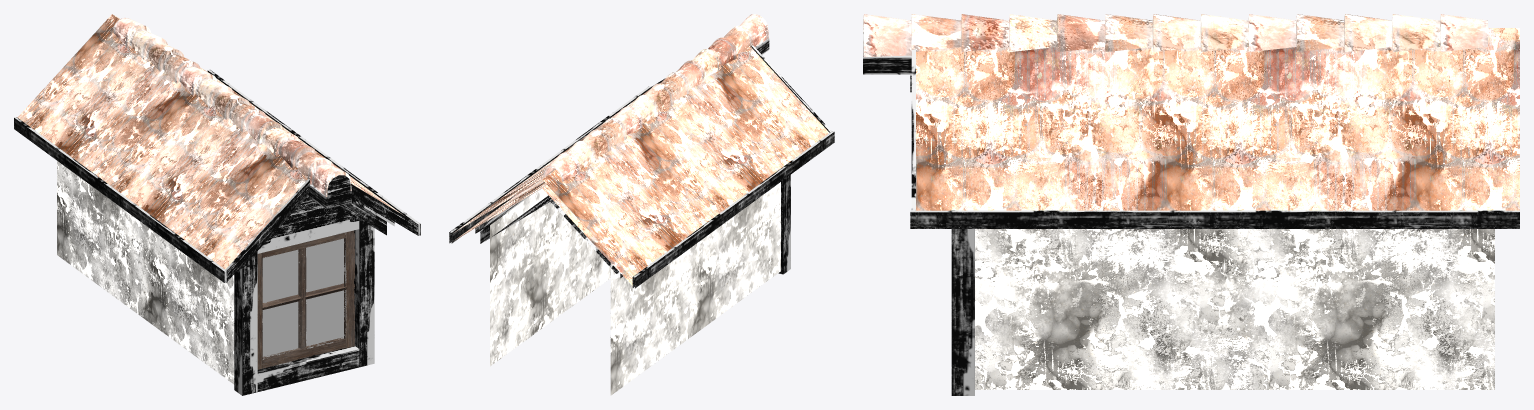
Rendered from SM_roof_attic_01.fbx.
The picture shows the model from 3 angles, left to right: view 1: azimuth 30°, elevation 25°; view 2: azimuth 150°, elevation 25°; view 3: azimuth 270°, elevation 25°; orthographic projection. The views are drawn at different scales.
Parts seen in each view (by area): view 1: SM_roof_attic_01_LOD0; view 2: SM_roof_attic_01_LOD0; view 3: SM_roof_attic_01_LOD0.
Part boxes in pixels (left/top/right/bottom): SM_roof_attic_01_LOD0: left=14, top=14, right=420, bottom=395; SM_roof_attic_01_LOD0: left=449, top=14, right=834, bottom=395; SM_roof_attic_01_LOD0: left=863, top=14, right=1519, bottom=395.
Size of the model in its own units: 231 by 464 by 260.
8 materials, 7 textured.
